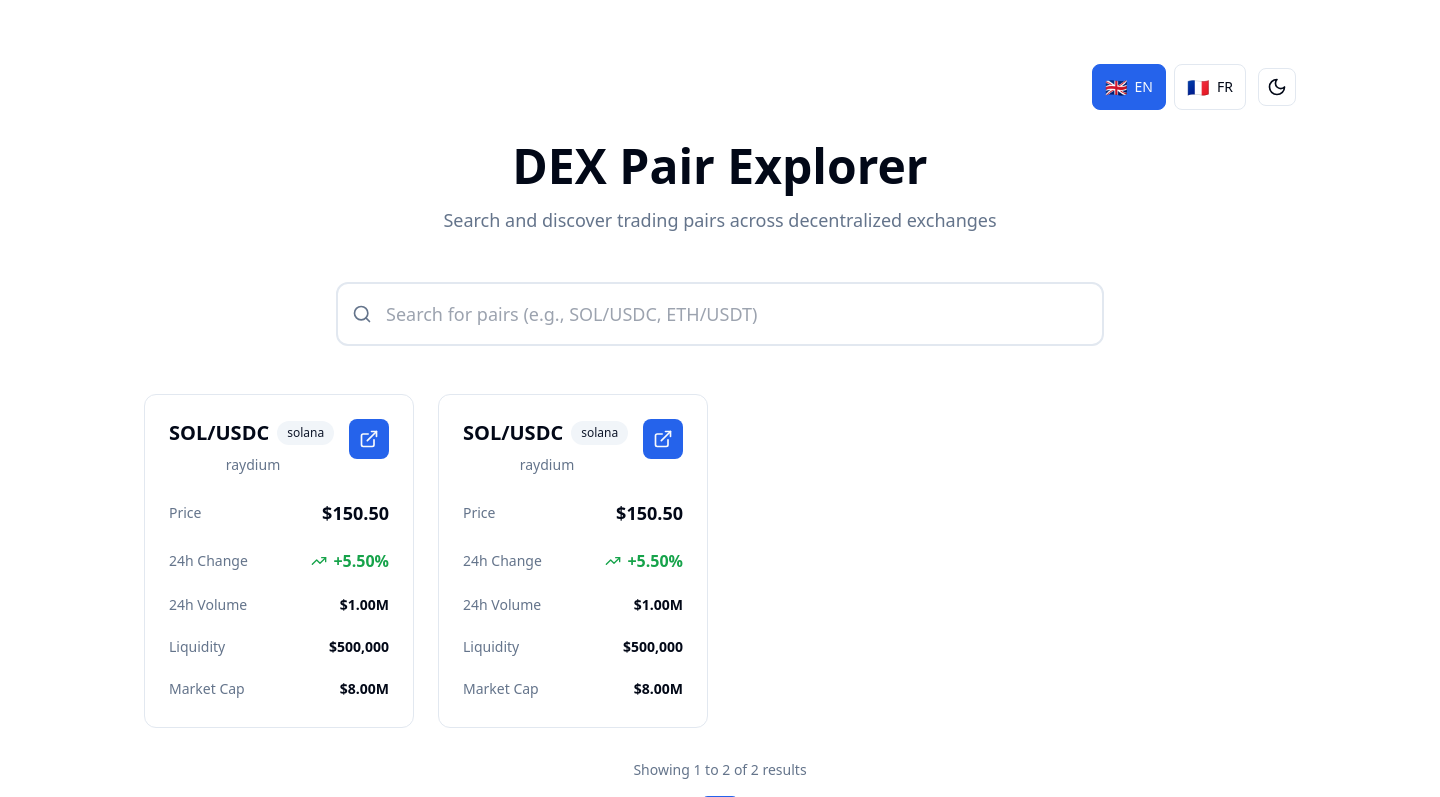
SearchPage › should show empty results state when no pairs found
Type "NONEXISTENT" into the field with placeholder "Search for pairs (e.g., SOL/USDC, ETH/USDT)" at (720, 314), box [336, 282, 1104, 346]
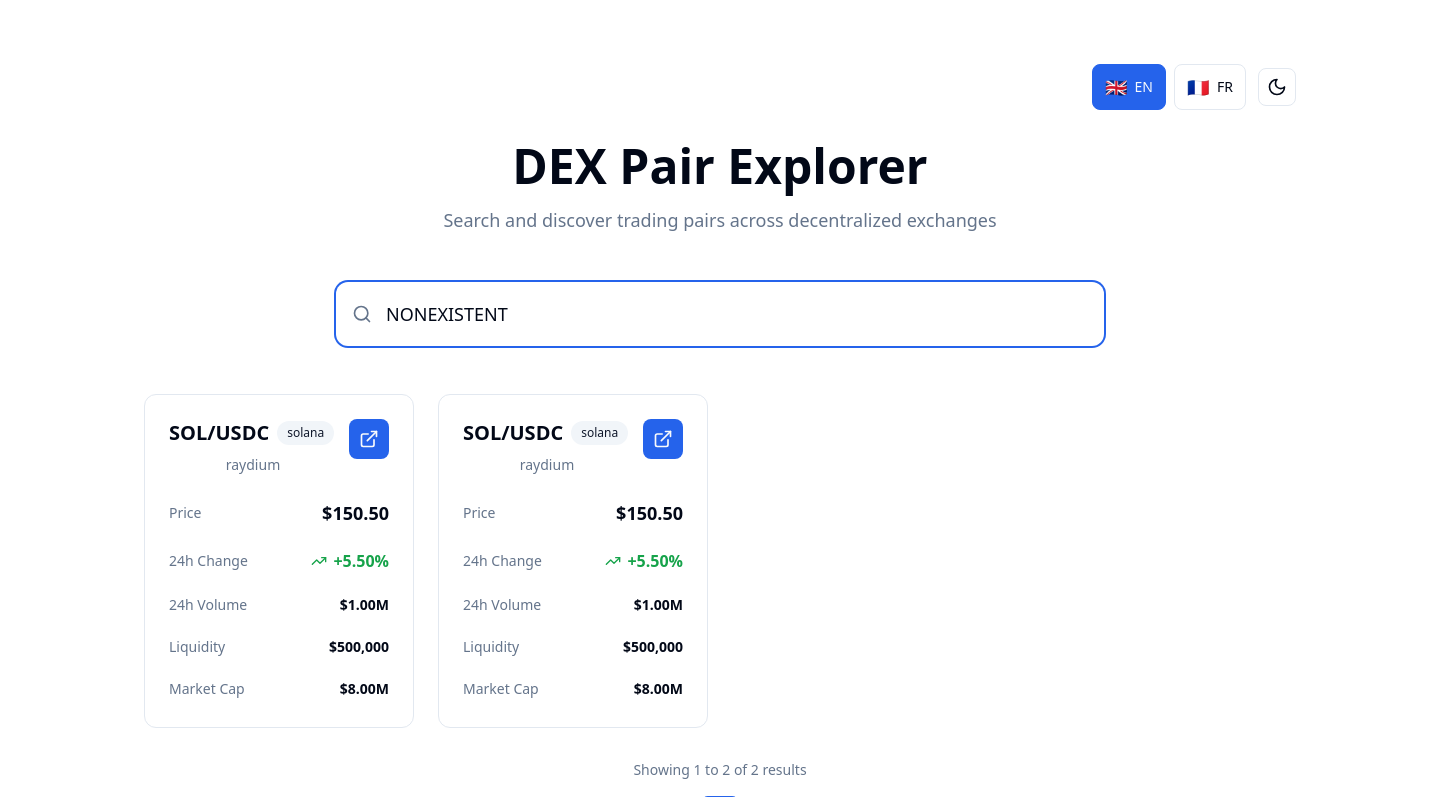
Press Enter
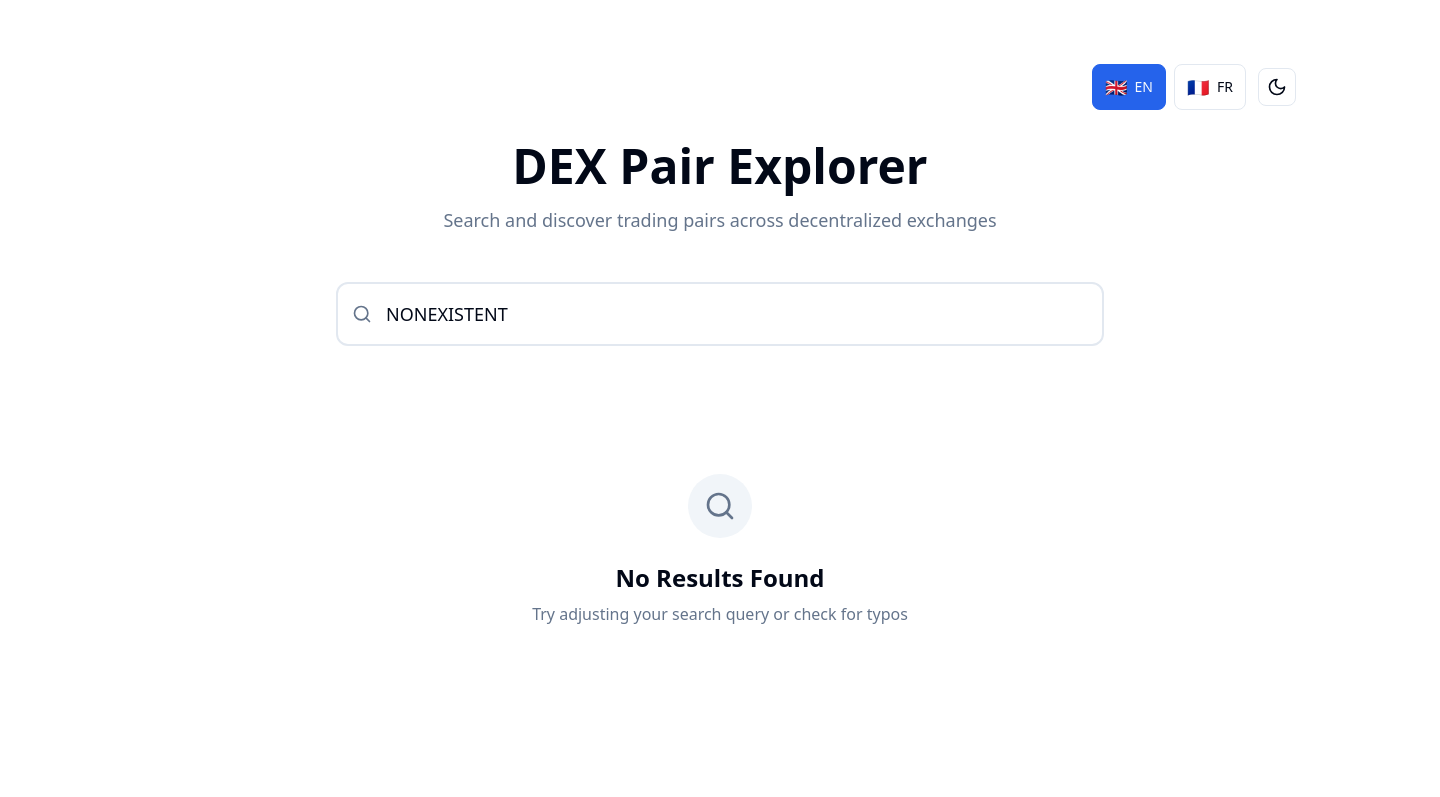
Expected: the heading "No Results Found" is shown, [616, 562, 824, 594]
